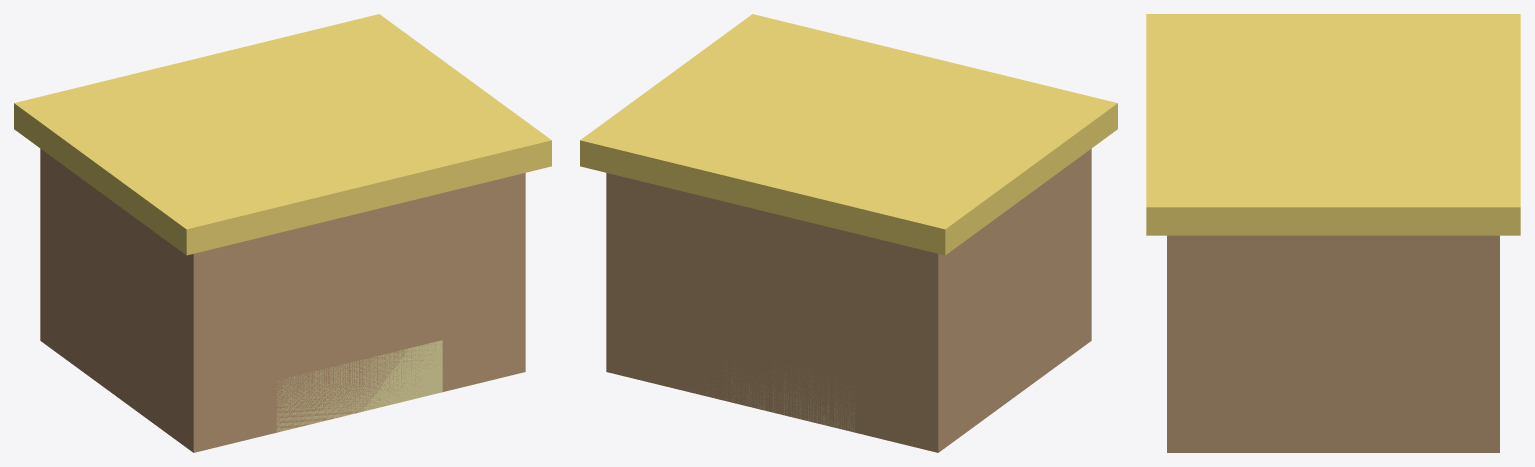
File: Prop_Live_AMF_GoatShelter_V8.glb
3 views of the same model, side by side, from view 1: azimuth 30°, elevation 25°; view 2: azimuth 150°, elevation 25°; view 3: azimuth 270°, elevation 25° (orthographic). The views are drawn at different scales.
Parts seen in each view (by area): view 1: Prop_Live_AMF_GoatShelter_V8; view 2: Prop_Live_AMF_GoatShelter_V8; view 3: Prop_Live_AMF_GoatShelter_V8.
Part boxes in pixels (<box>): Prop_Live_AMF_GoatShelter_V8: <box>14,14,551,452</box>; Prop_Live_AMF_GoatShelter_V8: <box>580,14,1117,452</box>; Prop_Live_AMF_GoatShelter_V8: <box>1146,14,1520,452</box>.
Size of the model in its own units: 2.2 by 1.35 by 1.8.
